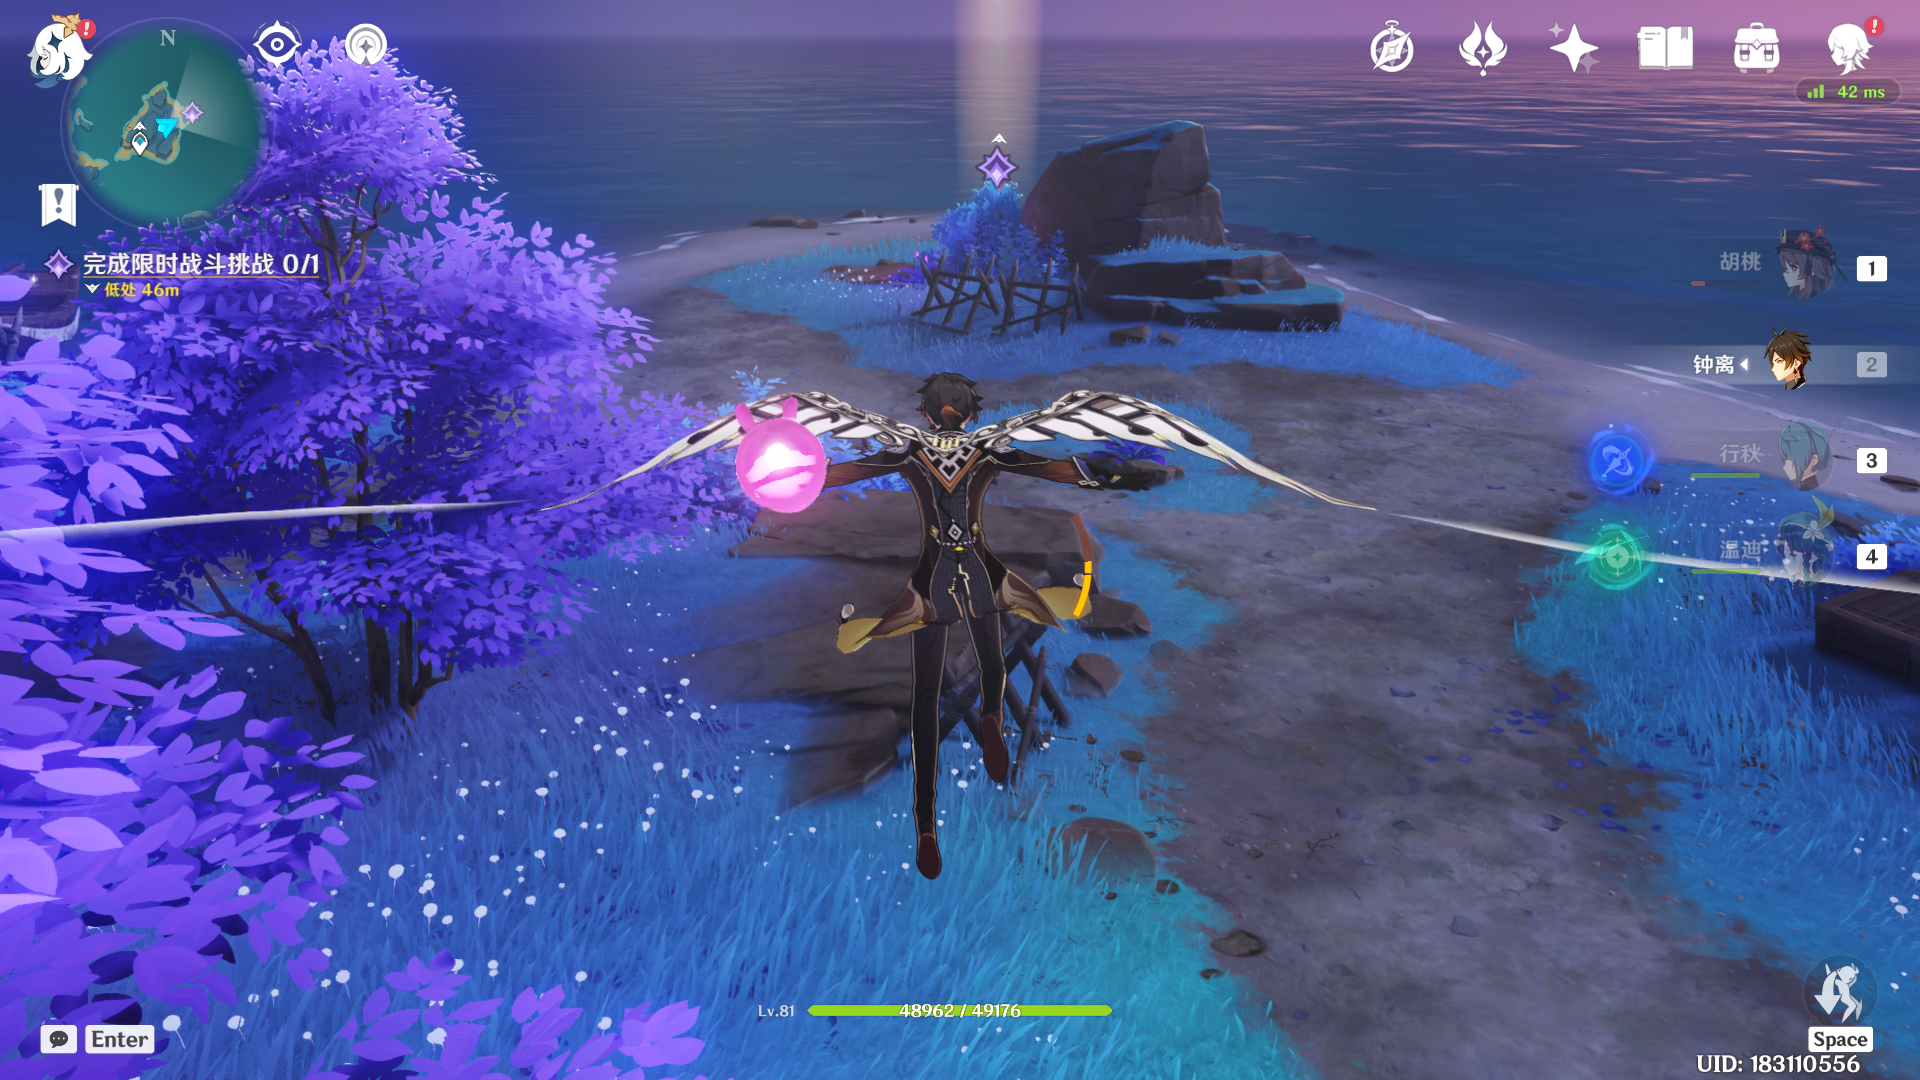character: (769, 328, 1149, 876)
